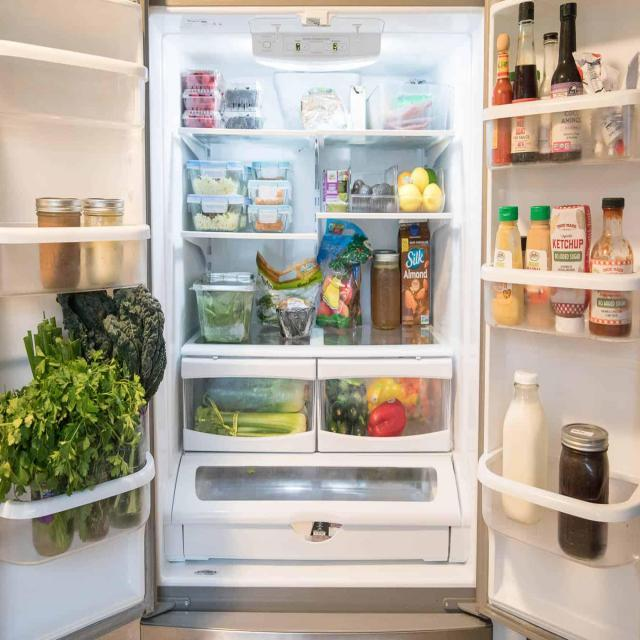lemon: (400, 186, 422, 212), (423, 184, 442, 211), (410, 168, 428, 188)
parsley: (6, 371, 117, 491)
red bell pepper: (367, 402, 406, 436)
sauce: (593, 199, 631, 269), (516, 0, 539, 99), (556, 3, 580, 90), (494, 34, 514, 100)
